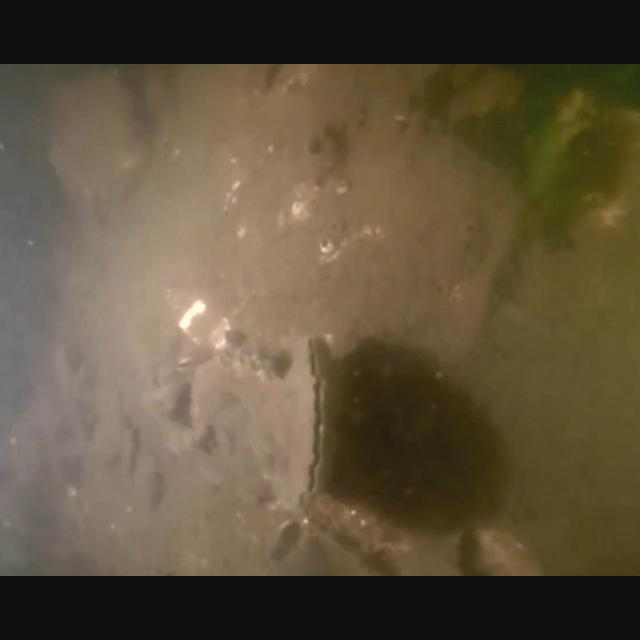Oyster-Open: (252, 334, 342, 514), (188, 349, 286, 497)
